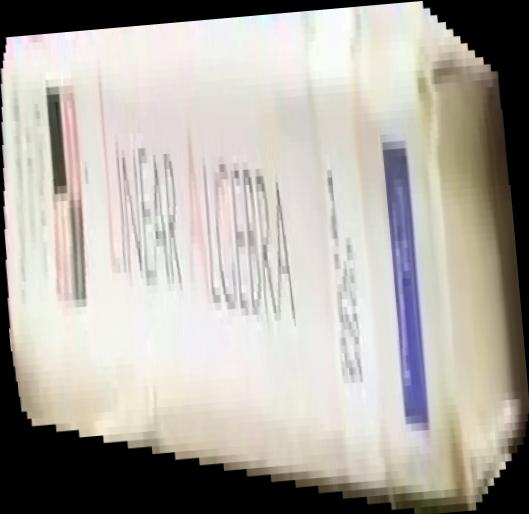flat: (1, 1, 529, 514)
